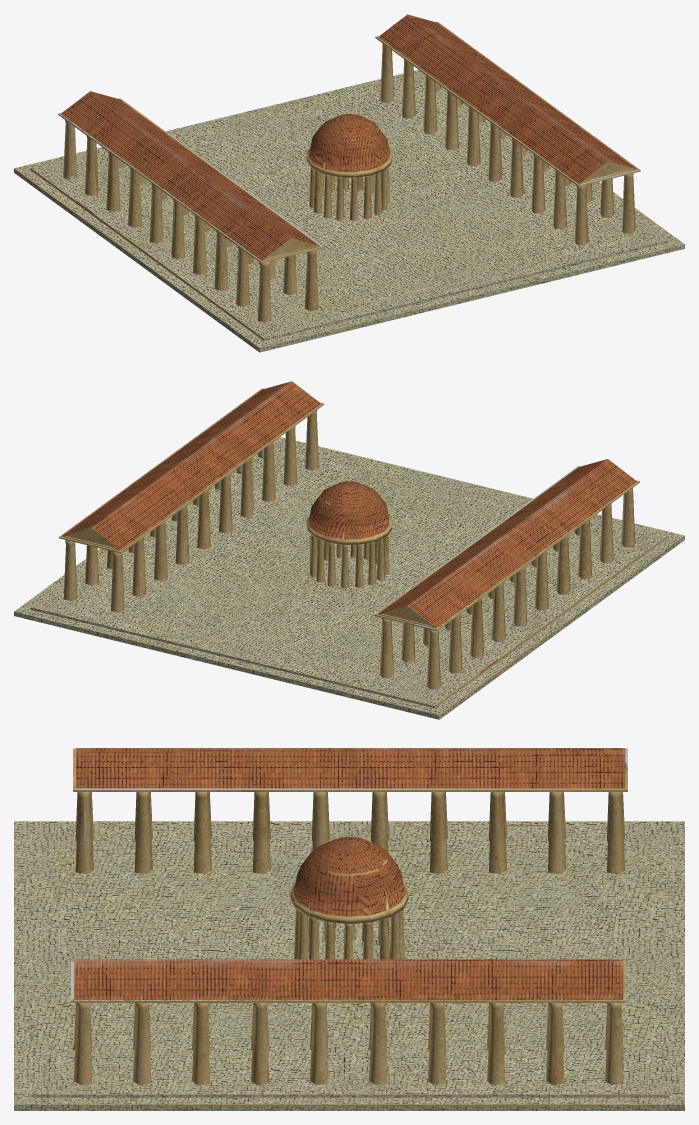
File: rome-forum-v30.glb
3 views of the same model, one above another, from view 1: azimuth 30°, elevation 25°; view 2: azimuth 150°, elevation 25°; view 3: azimuth 270°, elevation 25° (orthographic). The views are drawn at different scales.
Visible parts, largest first — view 1: forum_0; view 2: forum_0; view 3: forum_0.
Boxes of the visible parts, left/top/right/bottom form: forum_0: left=14, top=14, right=684, bottom=352; forum_0: left=14, top=381, right=684, bottom=719; forum_0: left=14, top=748, right=684, bottom=1110.
Bounding box in the file's own units: 2.39 × 0.4996 × 2.39.
Materials: 1 (1 with a texture image).
